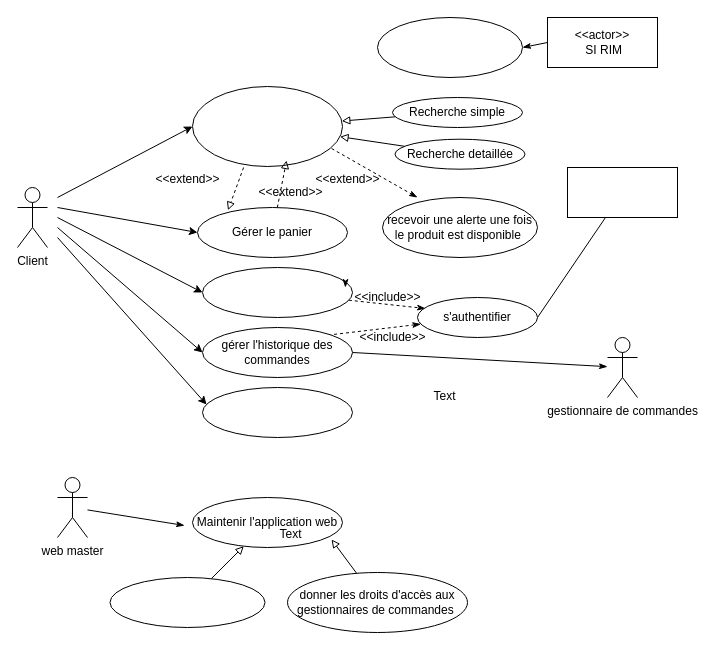
The diagram is 715 pixels wide and 650 high, and some of its shapes have lost their labels. The shapes that lost their labels are listed below. From the top down, each one's centre as x and y in pixels, then its label:
At pixel 449 47: "alimenter le catalogue".
At pixel 267 126: "Consulter les produits du catalogue".
At pixel 622 192: "<<actor>> API des réservations".
At pixel 277 292: "Effectuer une commande".
At pixel 277 412: "s'inscrire a la newsletter".
At pixel 187 602: "modifier les informations publicitaires".
